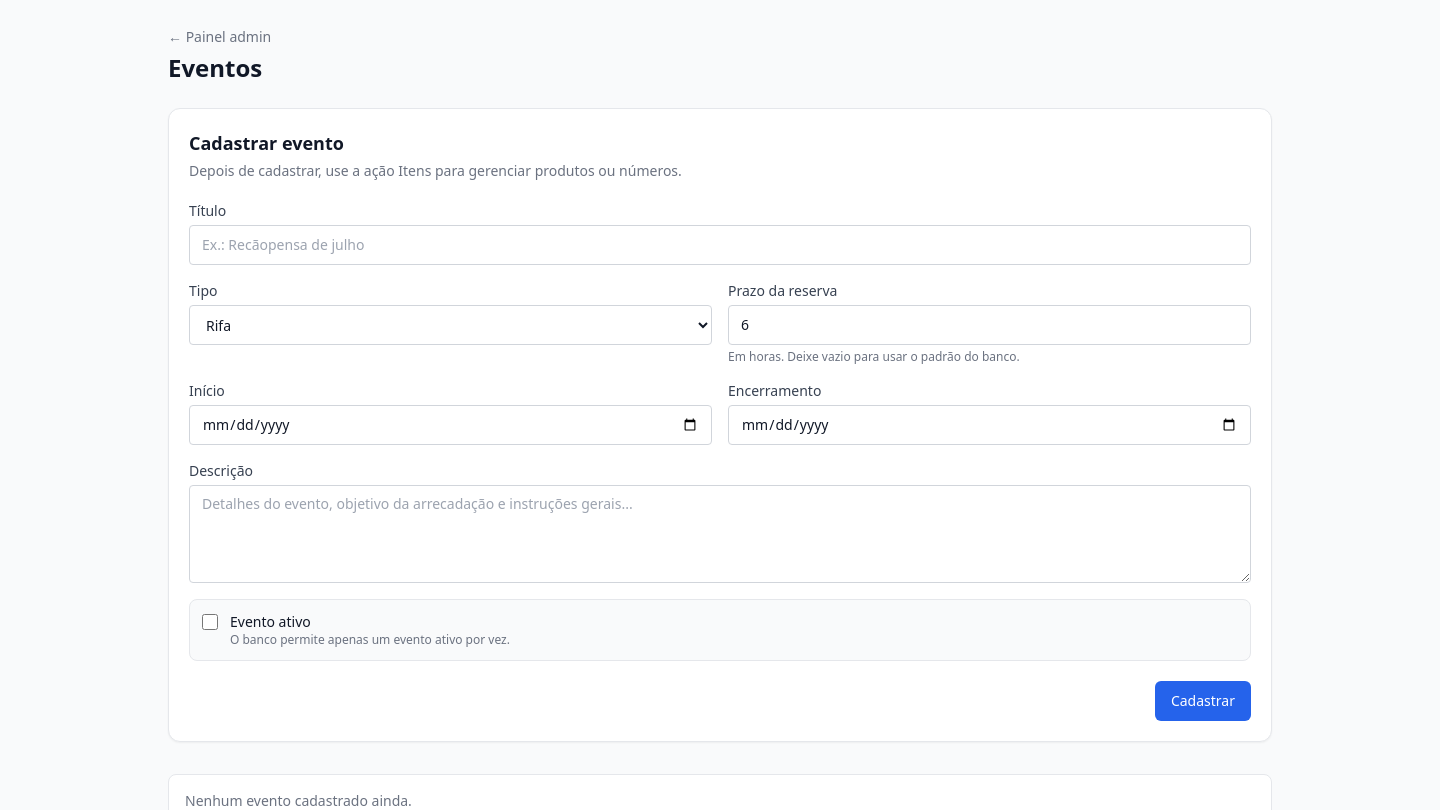
it: AdminEventsPage › cria evento com prazo de reserva configurado
Type "Bazar de Julho" into the field labelled "Título" at (720, 245), box [189,225,1251,265]
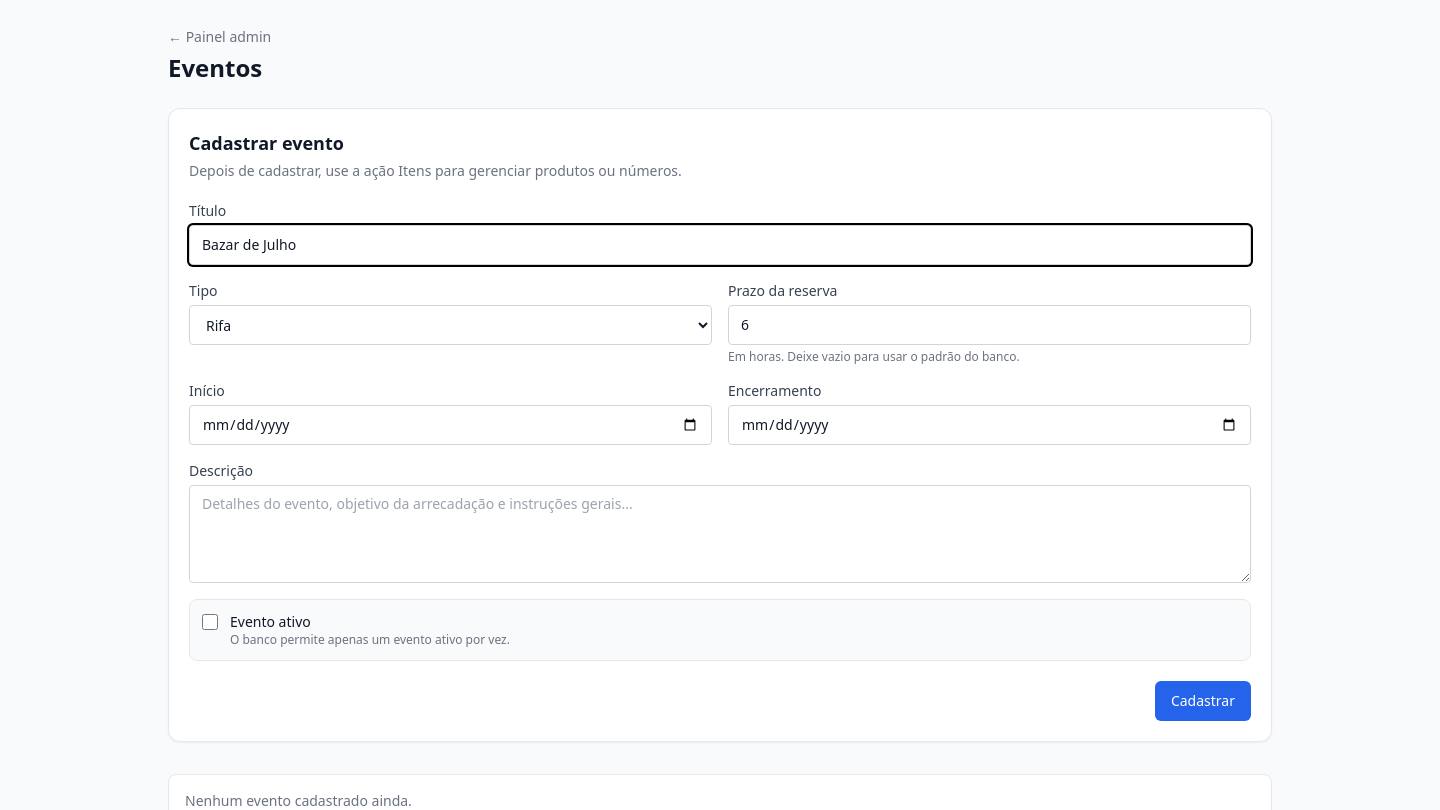
Select "Produtos" in the dropdown labelled "Tipo" at (450, 325), box [189,305,712,345]
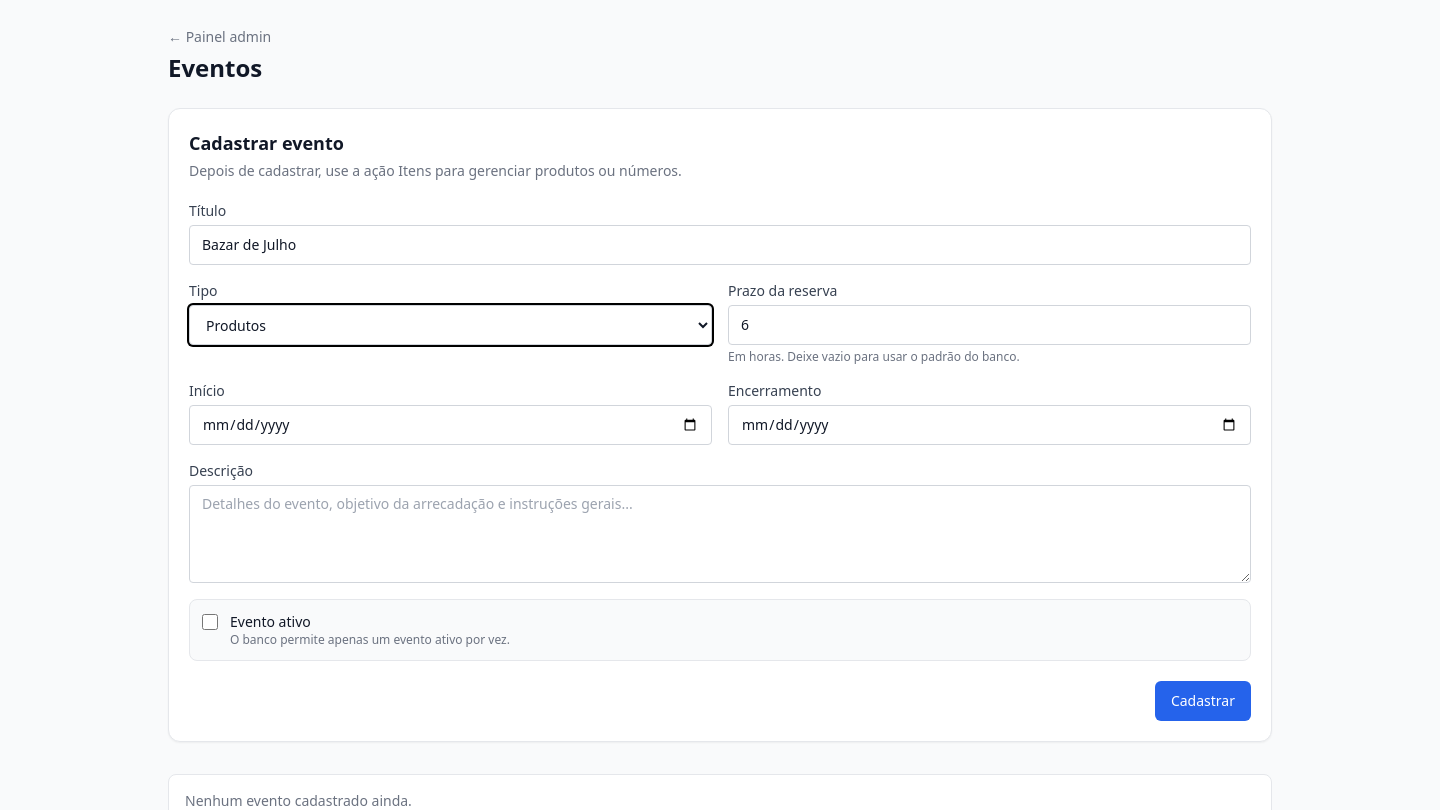
Type "8" into the number field labelled "Prazo da reserva" at (990, 325), box [728,305,1251,345]
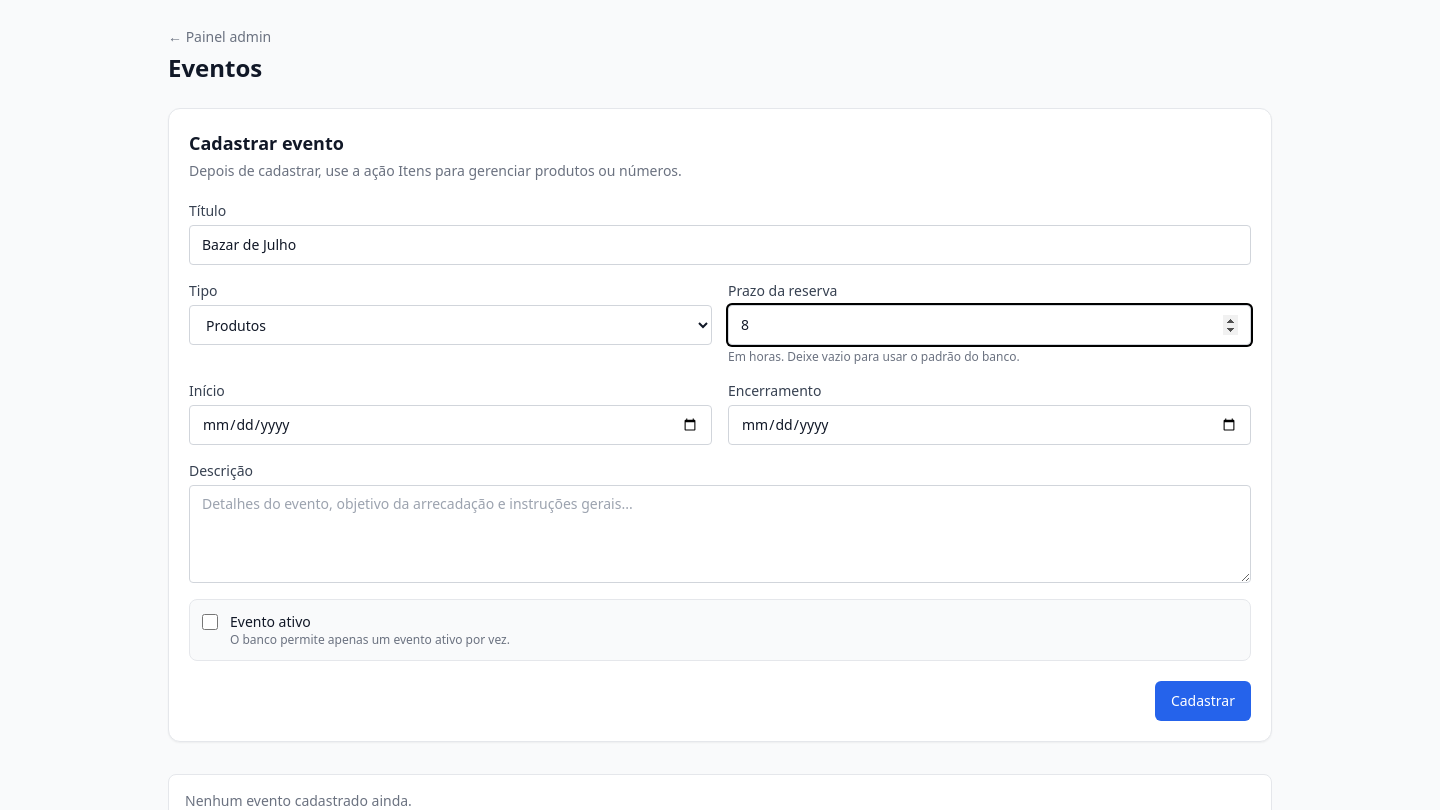
Type "2026-07-01" into the date field labelled "Início" at (450, 425), box [189,405,712,445]
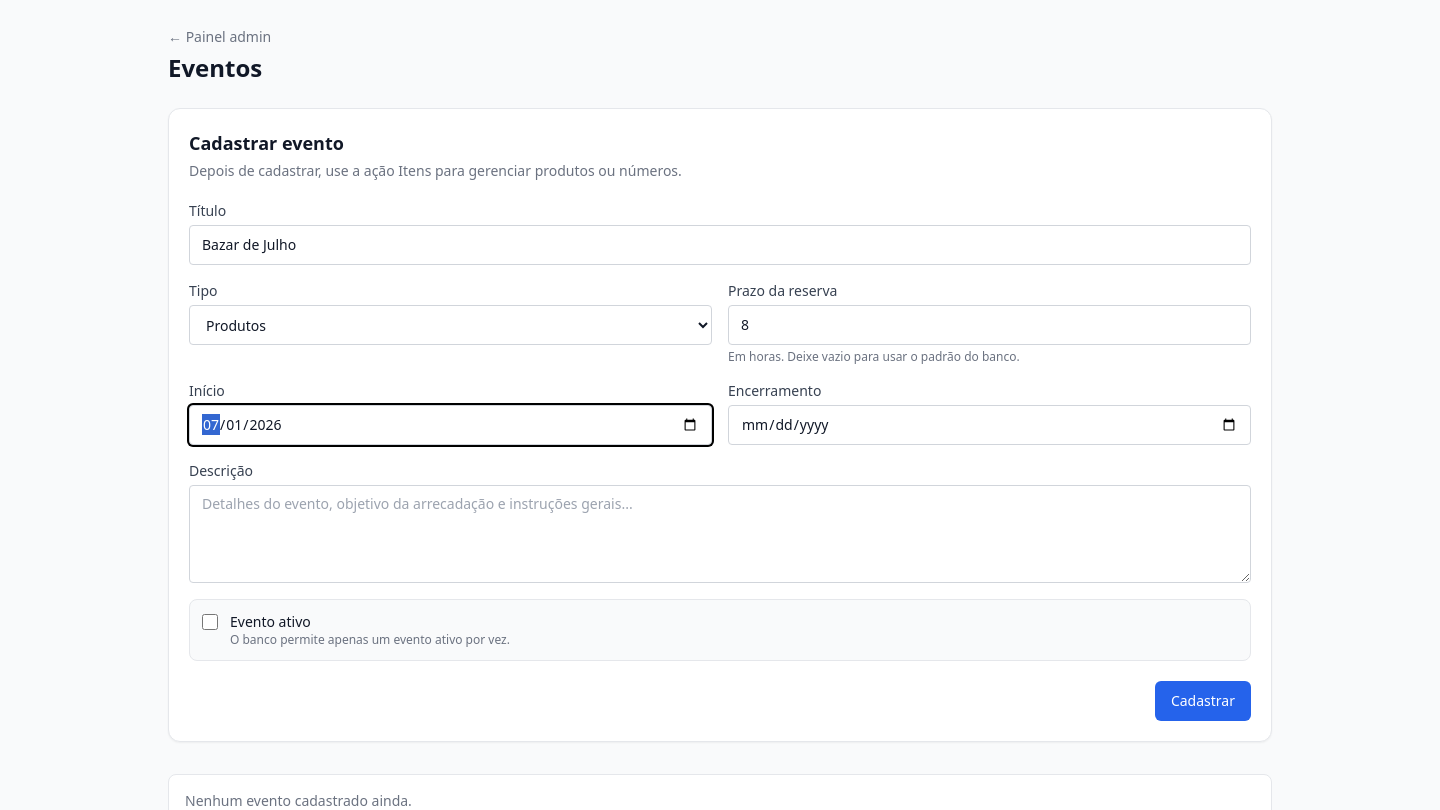
Type "2026-07-10" into the date field labelled "Encerramento" at (990, 425), box [728,405,1251,445]
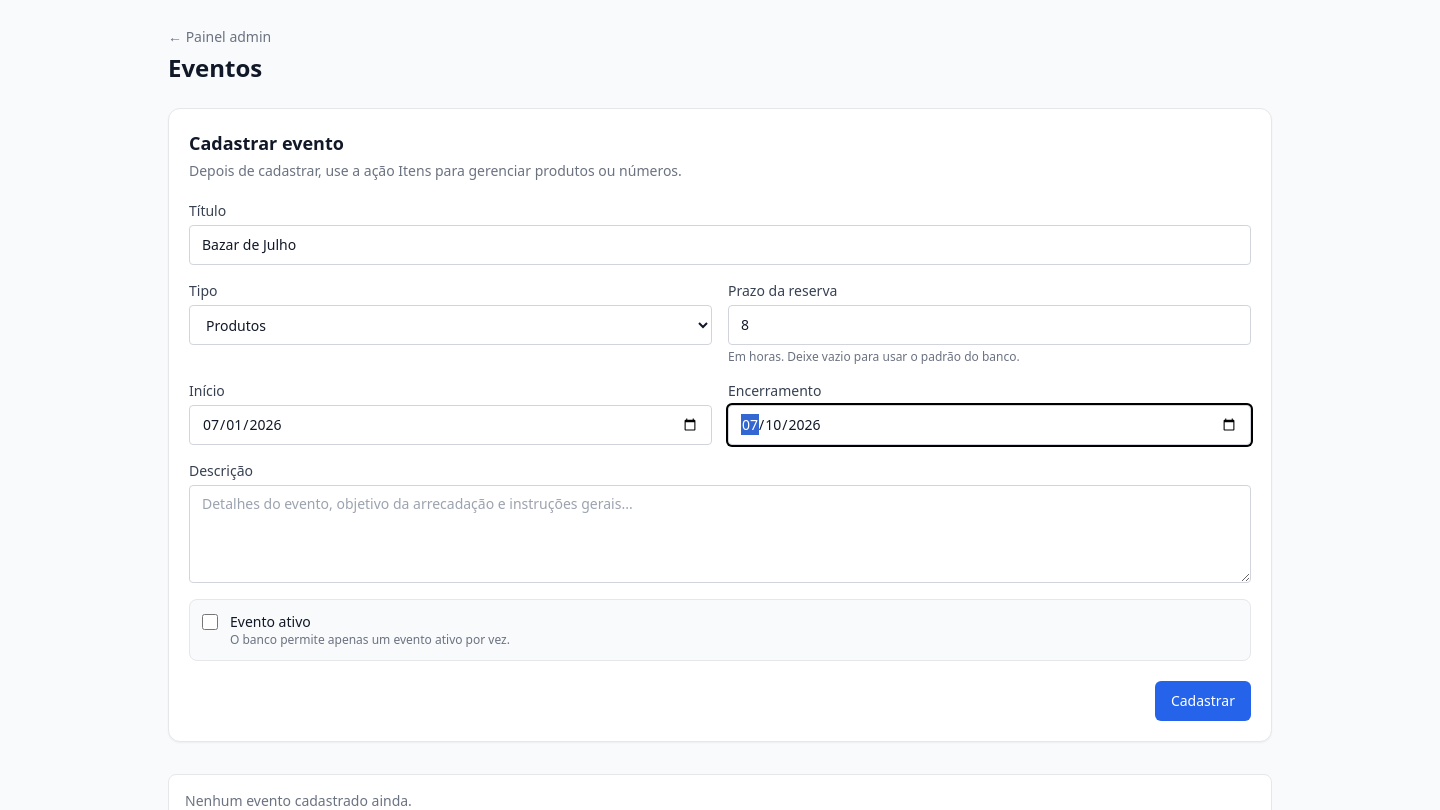
Click the button "Cadastrar" at (1203, 701), box [1155,681,1251,721]
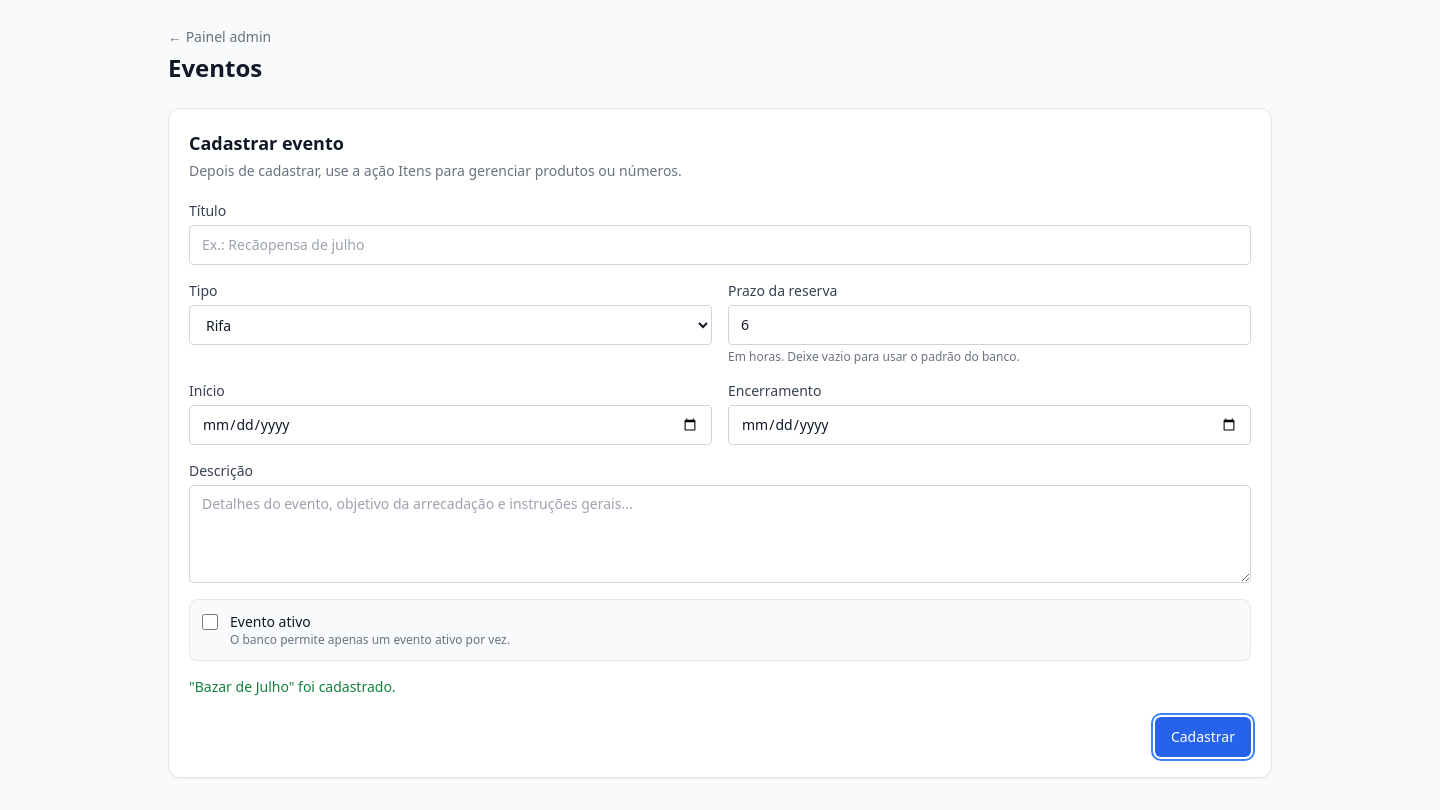
Now the text "\"Bazar de Julho\" foi cadastrado." is shown, box [189,677,396,696]
